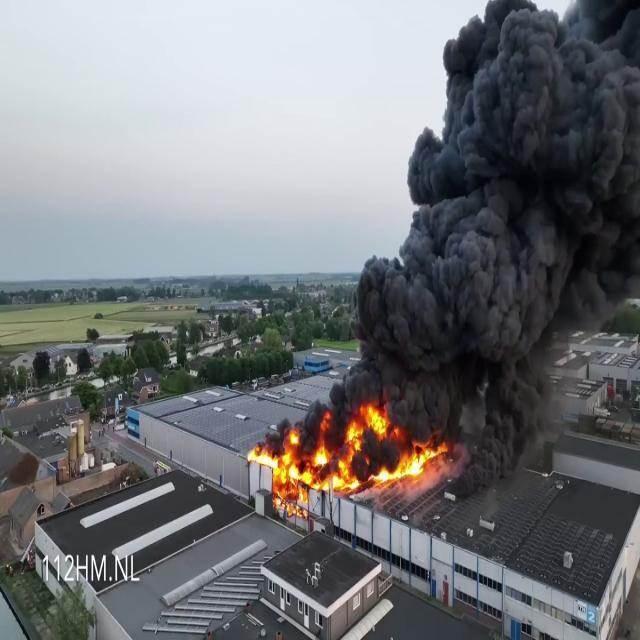Fire: (252, 401, 446, 497)
Smoke: (324, 1, 640, 459)
